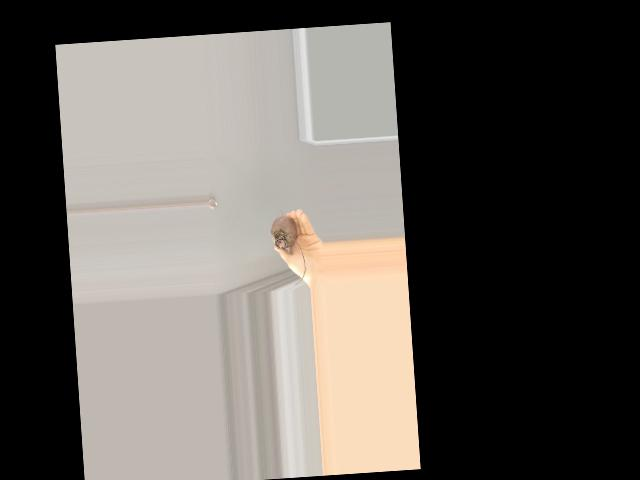beet: (269, 206, 307, 285)
